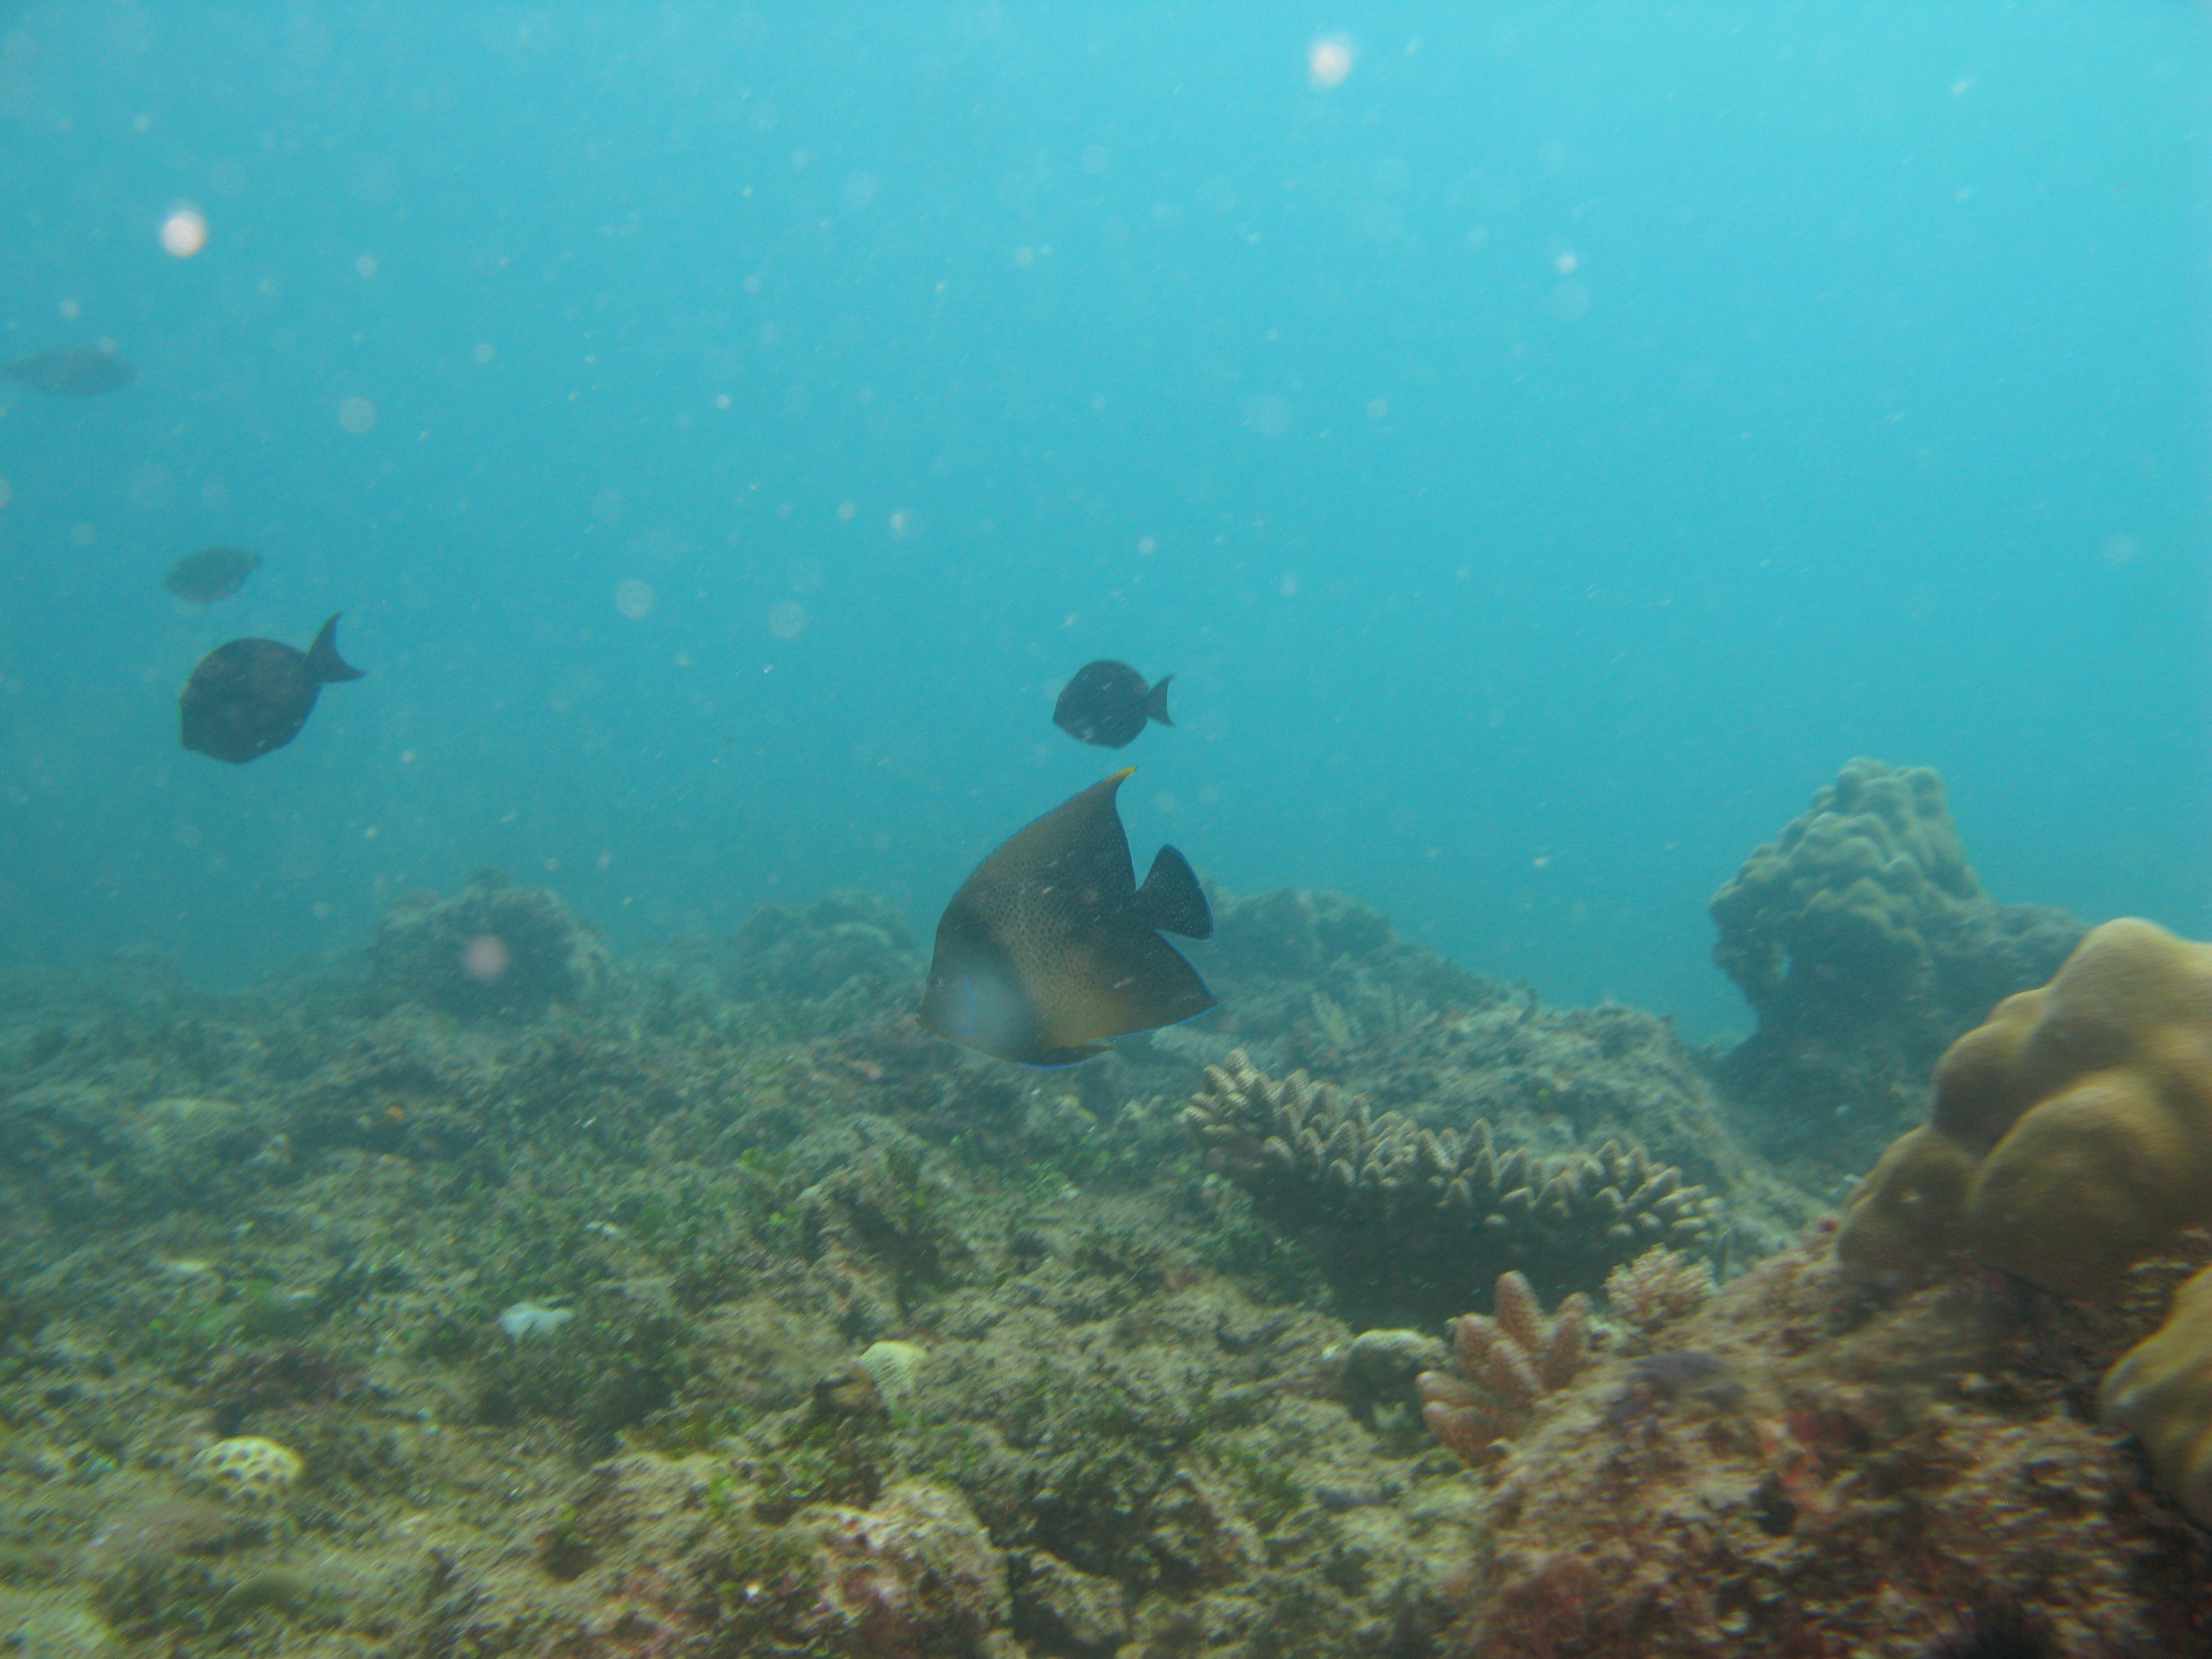Pomacanthus semicirculatus: (902, 762, 1299, 1096)
